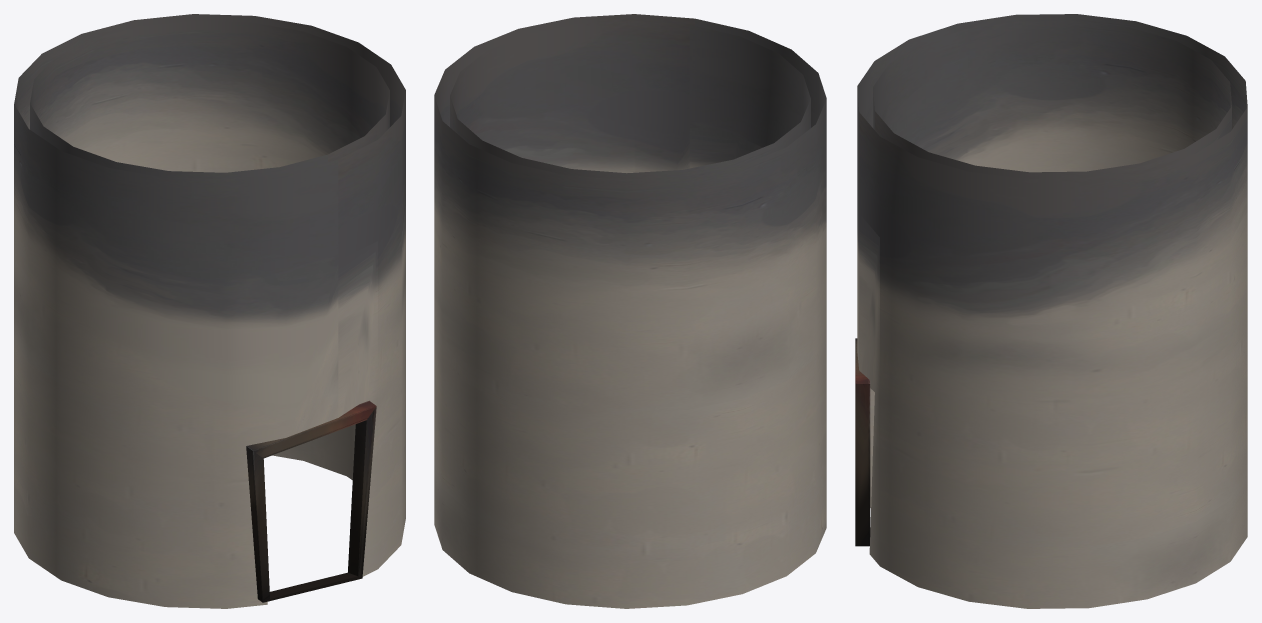
File: exitbottommuur.fbx
The picture shows the model from 3 angles, left to right: view 1: azimuth 30°, elevation 25°; view 2: azimuth 150°, elevation 25°; view 3: azimuth 270°, elevation 25°; orthographic projection.
Parts seen in each view (by area): view 1: pCylinder67; view 2: pCylinder67; view 3: pCylinder67.
Boxes of the visible parts, bbox=[...] form: pCylinder67: bbox=[14, 14, 405, 608]; pCylinder67: bbox=[434, 14, 826, 608]; pCylinder67: bbox=[855, 14, 1247, 608].
Size of the model in its own units: 17.96 by 21.83 by 18.05.
